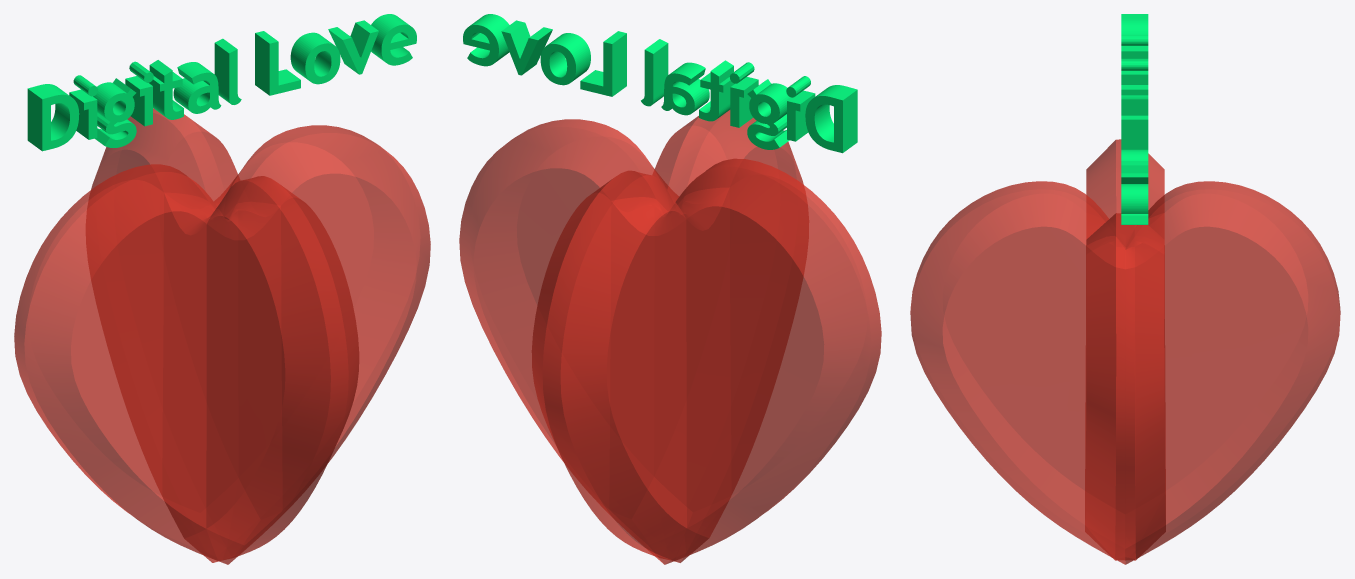
The model's file is asset.glb.
The picture shows the model from 3 angles, left to right: view 1: azimuth 30°, elevation 25°; view 2: azimuth 150°, elevation 25°; view 3: azimuth 270°, elevation 25°; orthographic projection. The views are drawn at different scales.
Visible parts, largest first — view 1: Circle.001, Retopo_Text; view 2: Circle.001, Retopo_Text; view 3: Circle.001, Retopo_Text.
Boxes of the visible parts, x1,y1,x2,y2 form: Circle.001: (14, 108, 430, 564); Retopo_Text: (27, 14, 416, 151); Circle.001: (459, 110, 881, 564); Retopo_Text: (463, 14, 857, 153); Circle.001: (910, 139, 1340, 564); Retopo_Text: (1121, 14, 1148, 224).
Bounding box in the file's own units: 59.64 × 71.49 × 59.64.
